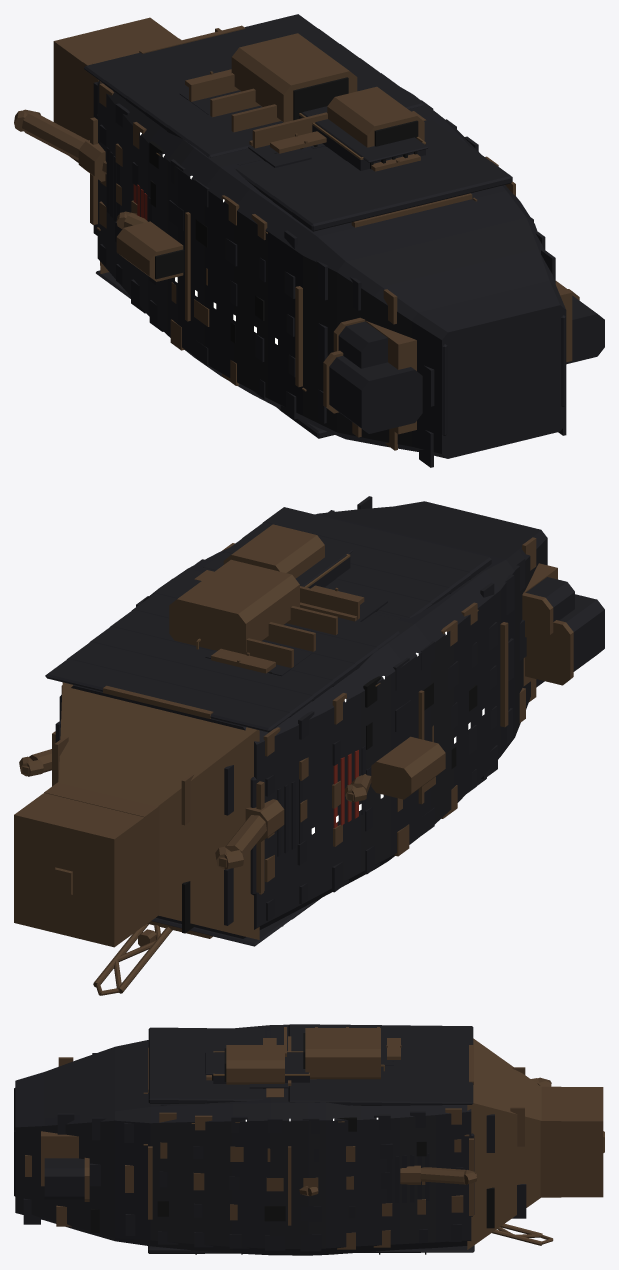
3 renders of one model, top to bottom at view 1: azimuth 30°, elevation 25°; view 2: azimuth 150°, elevation 25°; view 3: azimuth 270°, elevation 25°, orthographic. The views are drawn at different scales.
Parts seen in each view (by area): view 1: RIMWARD_HULL; view 2: RIMWARD_HULL; view 3: RIMWARD_HULL.
Part boxes in pixels (<box>): RIMWARD_HULL: <box>14,14,604,467</box>; RIMWARD_HULL: <box>14,496,604,995</box>; RIMWARD_HULL: <box>14,1024,604,1255</box>.
Bounding box in the file's own units: 7.22 × 6.67 × 17.14.
